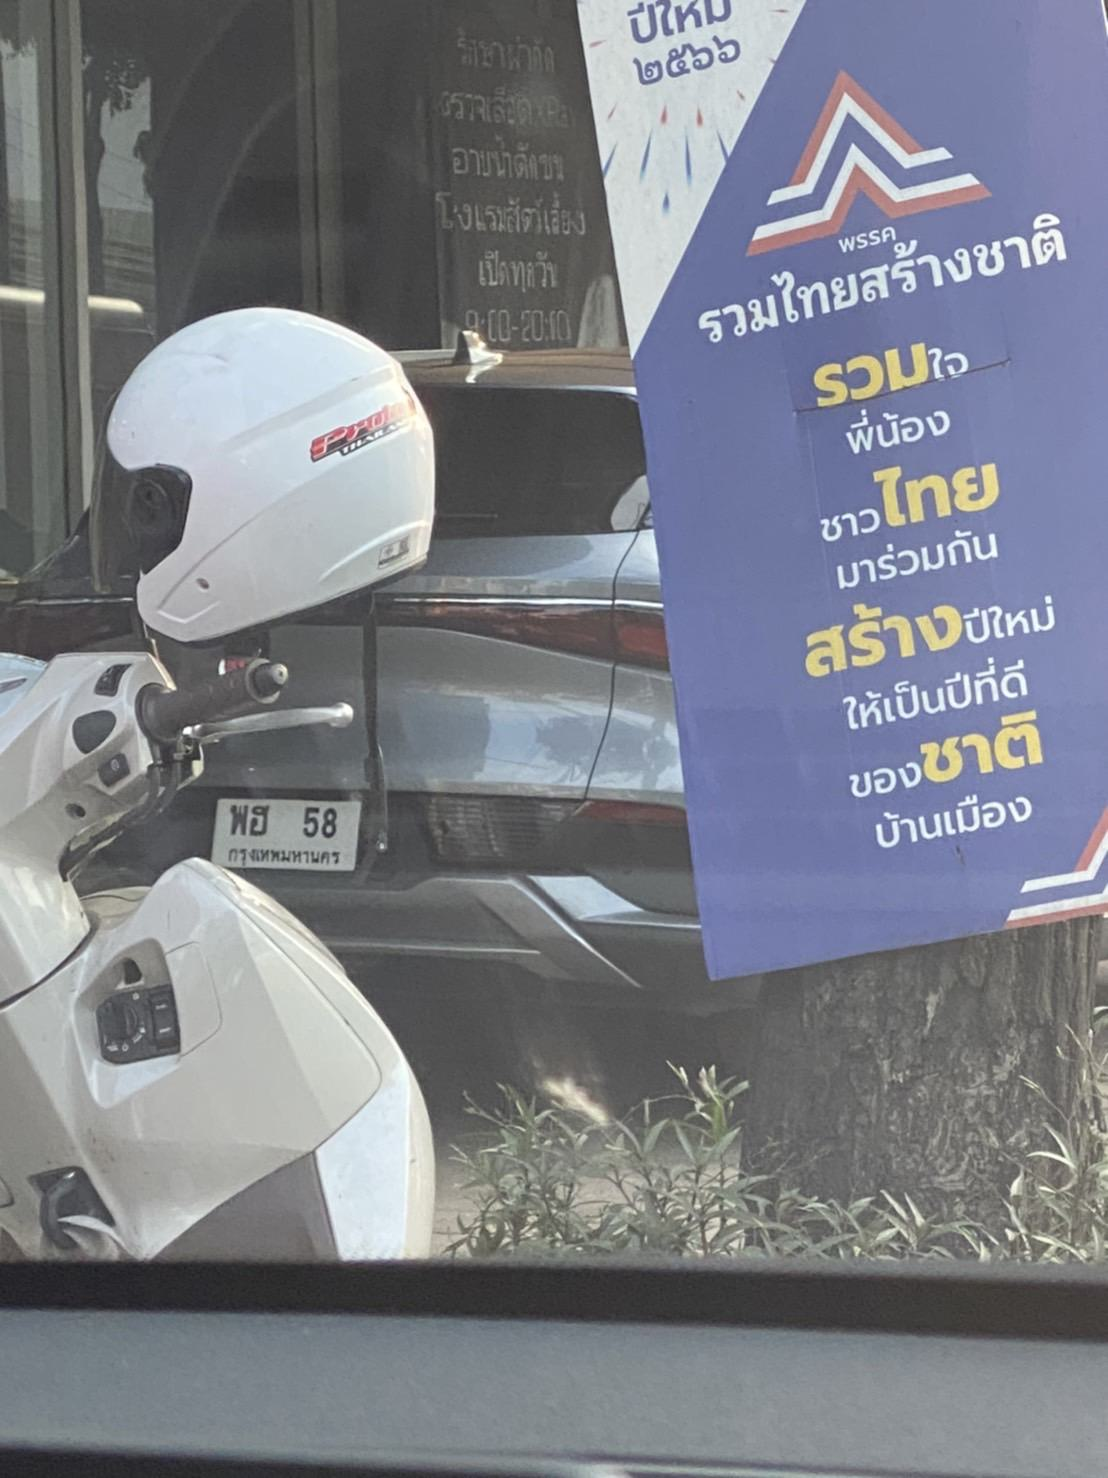Banner: (559, 2, 1108, 976)
